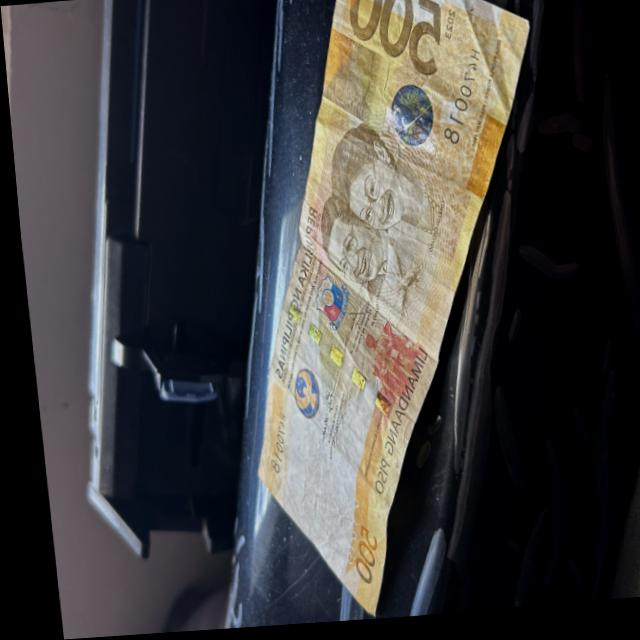concealed_value: (322, 47, 375, 120)
optically_variable_device: (386, 84, 433, 161)
watermark: (258, 434, 344, 538)
